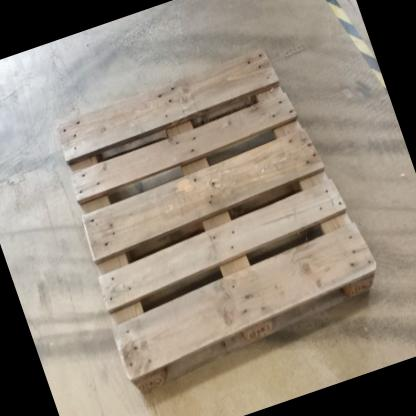BoxFace: (54, 41, 381, 401)
